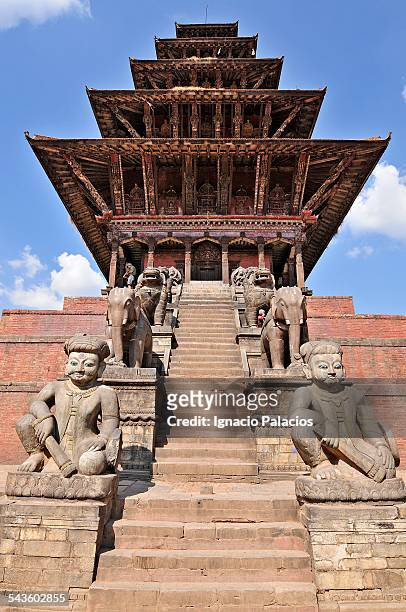nyathapola: (7, 0, 399, 371)
